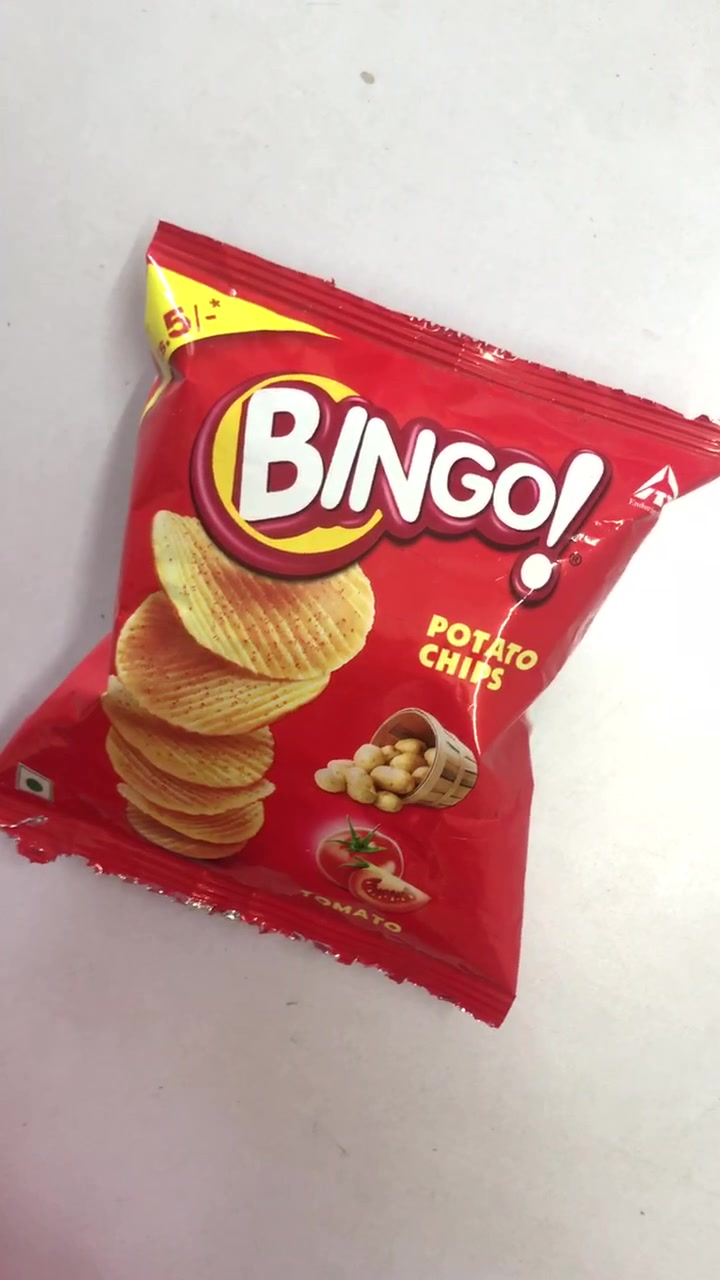Bingo: (5, 223, 720, 1016)
